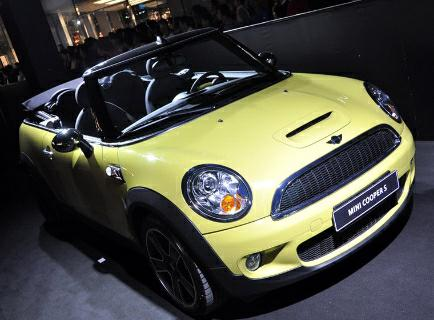MINI: (29, 10, 414, 314)
